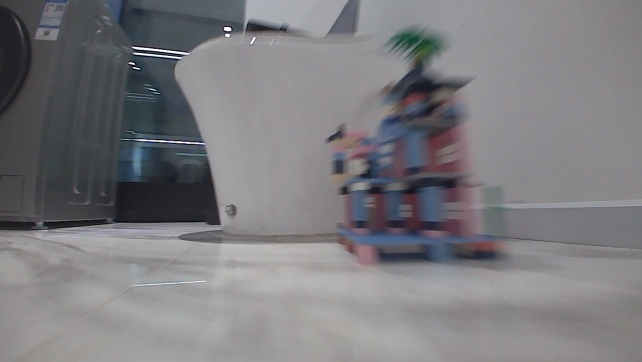plastic_toy: (320, 21, 509, 269)
toilet: (171, 27, 379, 238)
washing_machine1: (0, 0, 134, 233)
